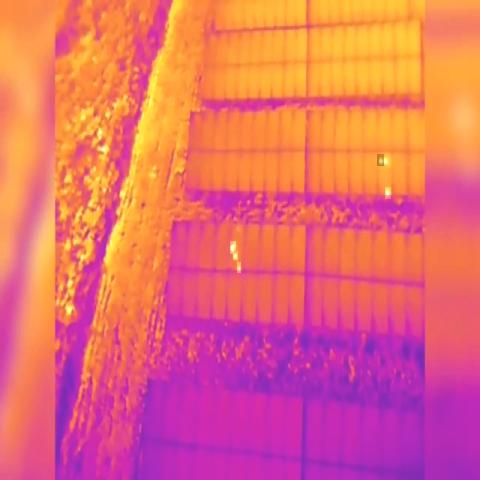fault: (377, 154, 384, 166), (230, 241, 236, 254), (384, 154, 390, 166), (386, 187, 391, 199), (233, 251, 238, 260), (237, 262, 241, 273)
